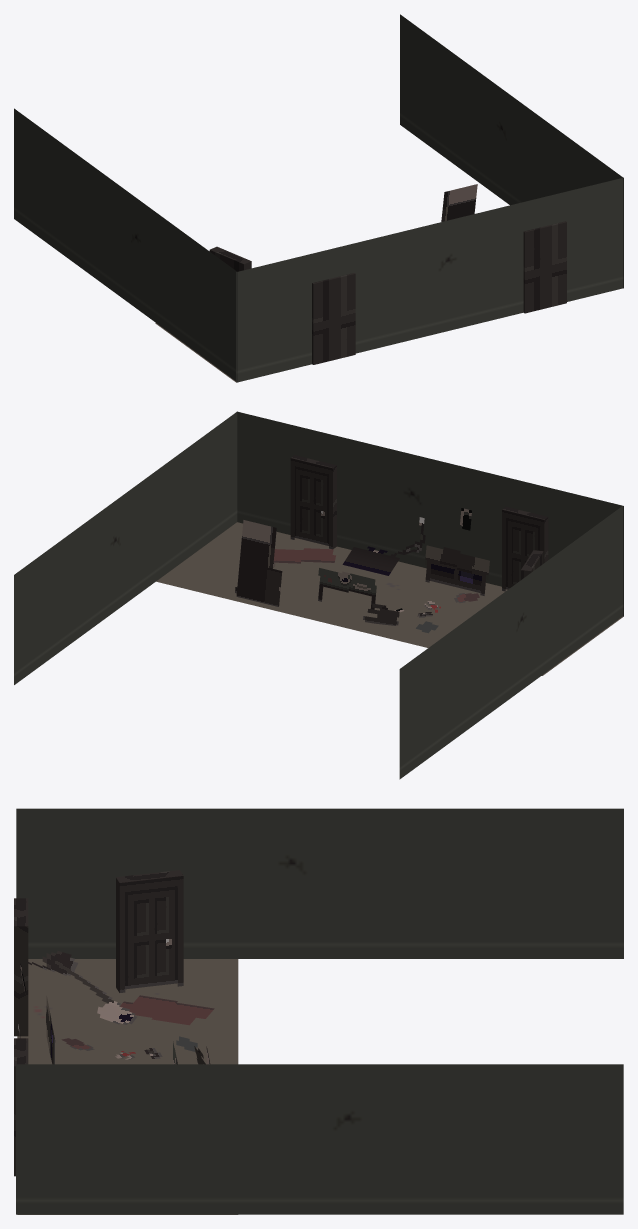
The model's file is LivingRoomPostMeltdown.fbx.
The picture shows the model from 3 angles, top to bottom: view 1: azimuth 30°, elevation 25°; view 2: azimuth 150°, elevation 25°; view 3: azimuth 270°, elevation 25°; orthographic projection. The views are drawn at different scales.
Parts seen in each view (by area): view 1: BDown_WAll, BDown_Wall1, BDown_Wall2, BDown_Door_OS, BDown_Floor_BD, BDown_Fridge, BDown_Door_BR; view 2: BDown_WAll, BDown_Wall1, BDown_Wall2, BDown_Floor, BDown_Door_OS, BDown_Fridge, BDown_Floor_BD, BDown_Shelf, BDown_TV, BDown_Table, BDown_Rug_1, BDown_Chair; view 3: BDown_Wall2, BDown_Wall1, BDown_Floor, BDown_Door_BR, BDown_Floor_BD, BDown_Rug_2, BDown_Lamp, BDown_Door_OS.
Part boxes in pixels (<box>): BDown_WAll: <box>236,177,623,382</box>; BDown_Wall1: <box>14,108,237,382</box>; BDown_Wall2: <box>400,14,623,288</box>; BDown_Door_OS: <box>523,221,566,313</box>; BDown_Floor_BD: <box>312,273,355,364</box>; BDown_Fridge: <box>441,184,477,221</box>; BDown_Door_BR: <box>209,246,251,271</box>; BDown_WAll: <box>237,411,623,616</box>; BDown_Wall1: <box>399,506,622,779</box>; BDown_Wall2: <box>14,411,237,684</box>; BDown_Floor: <box>156,522,623,675</box>; BDown_Door_OS: <box>290,455,336,549</box>; BDown_Fridge: <box>235,520,282,606</box>; BDown_Floor_BD: <box>502,506,548,591</box>; BDown_Shelf: <box>425,545,489,595</box>; BDown_TV: <box>342,517,425,575</box>; BDown_Table: <box>318,568,376,609</box>; BDown_Rug_1: <box>273,548,335,563</box>; BDown_Chair: <box>363,603,399,625</box>; BDown_Wall2: <box>16,1064,623,1214</box>; BDown_Wall1: <box>16,808,623,958</box>; BDown_Floor: <box>17,959,238,1214</box>; BDown_Door_BR: <box>116,870,183,992</box>; BDown_Floor_BD: <box>14,898,28,1036</box>; BDown_Rug_2: <box>120,995,214,1025</box>; BDown_Lamp: <box>28,951,136,1024</box>; BDown_Door_OS: <box>14,1038,28,1176</box>.
Bounding box in the file's own units: 2200 × 608 × 2209.
17 materials, 17 textured.
